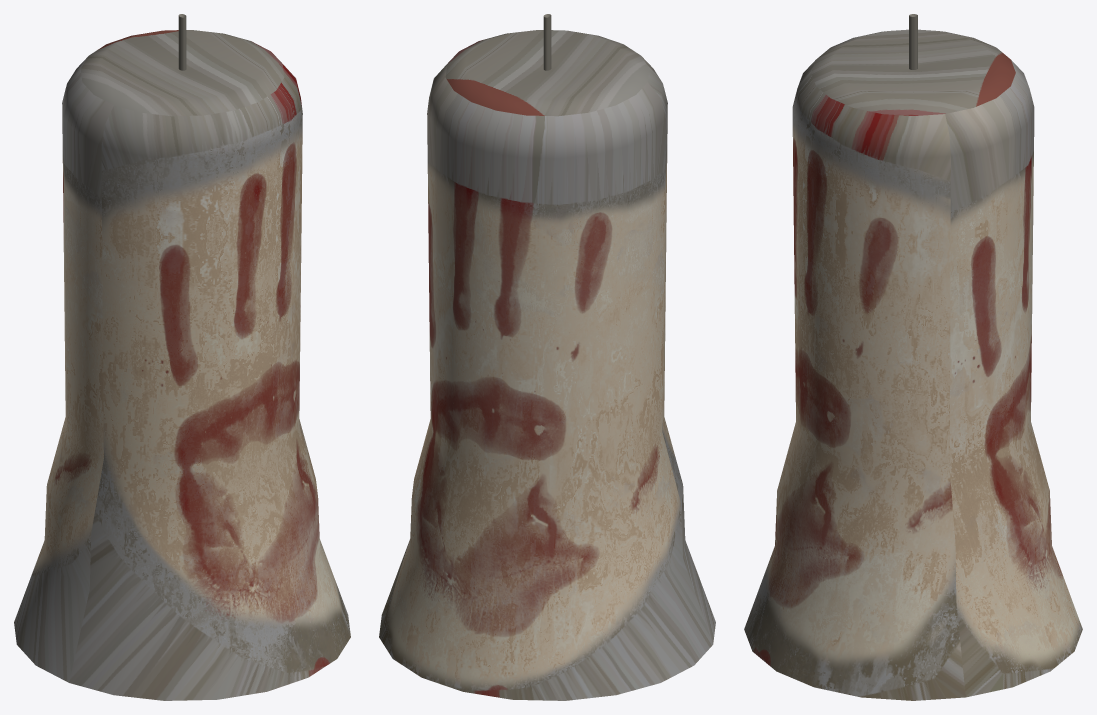
The model's file is Candle.fbx.
3 renders of one model, left to right at view 1: azimuth 30°, elevation 25°; view 2: azimuth 150°, elevation 25°; view 3: azimuth 270°, elevation 25°, orthographic.
Parts seen in each view (by area): view 1: pCylinder1; view 2: pCylinder1; view 3: pCylinder1.
Part boxes in pixels (x1=…): pCylinder1: x1=14, y1=14, x2=350, y2=700; pCylinder1: x1=379, y1=14, x2=715, y2=700; pCylinder1: x1=744, y1=14, x2=1082, y2=700.
Bounding box in the file's own units: 2.8 × 5.6 × 2.8.
